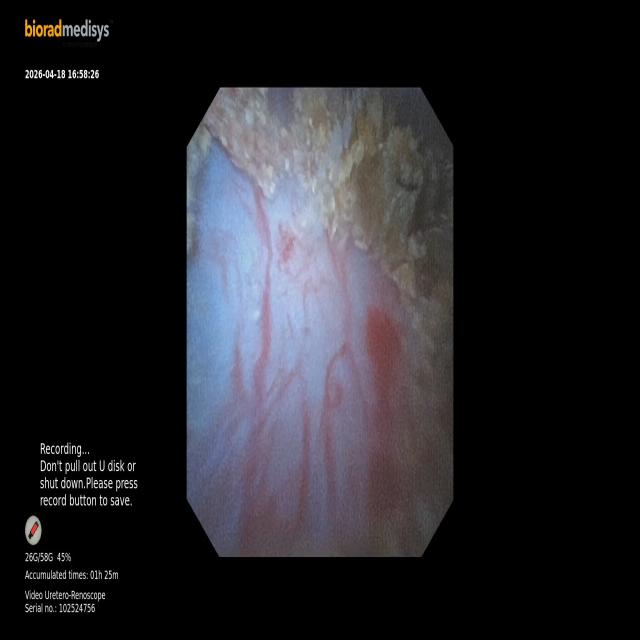stone-new: (323, 94, 425, 271), (202, 88, 335, 197)
